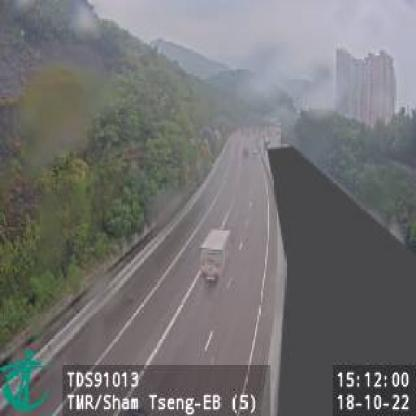Truck: (198, 228, 234, 286)
